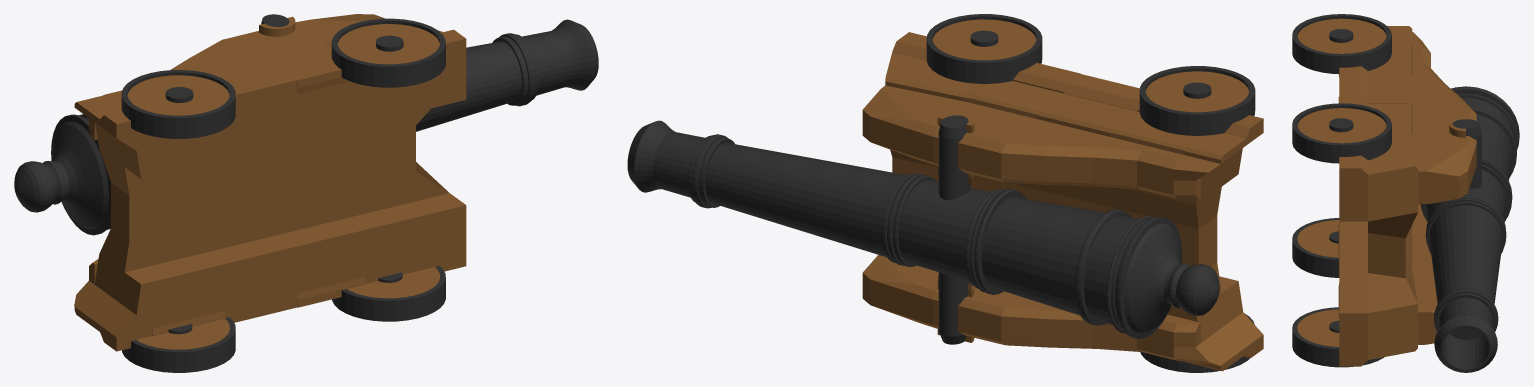
Rendered from Cannon.fbx.
3 views of the same model, side by side, from view 1: azimuth 30°, elevation 25°; view 2: azimuth 150°, elevation 25°; view 3: azimuth 270°, elevation 25° (orthographic). The views are drawn at different scales.
Visible parts, largest first — view 1: Holder, Cannon Piece, Wheel.003, Wheel.002, Wheel, Wheel.001; view 2: Holder, Cannon Piece, Wheel.003, Wheel.002, Wheel.001; view 3: Holder, Cannon Piece, Wheel.003, Wheel.002, Wheel, Wheel.001.
Part boxes in pixels (bbox=[...]): Holder: bbox=[74, 14, 466, 351]; Cannon Piece: bbox=[14, 14, 598, 235]; Wheel.003: bbox=[331, 18, 445, 87]; Wheel.002: bbox=[121, 70, 235, 138]; Wheel: bbox=[332, 266, 445, 321]; Wheel.001: bbox=[122, 317, 235, 372]; Holder: bbox=[862, 32, 1263, 371]; Cannon Piece: bbox=[627, 115, 1219, 344]; Wheel.003: bbox=[926, 14, 1042, 83]; Wheel.002: bbox=[1139, 66, 1255, 135]; Wheel.001: bbox=[1140, 313, 1254, 372]; Holder: bbox=[1338, 26, 1476, 366]; Cannon Piece: bbox=[1420, 86, 1519, 372]; Wheel.003: bbox=[1292, 103, 1391, 163]; Wheel.002: bbox=[1292, 14, 1391, 73]; Wheel: bbox=[1292, 307, 1384, 367]; Wheel.001: bbox=[1292, 218, 1339, 277].
Size of the model in its own units: 358 by 156 by 143.
